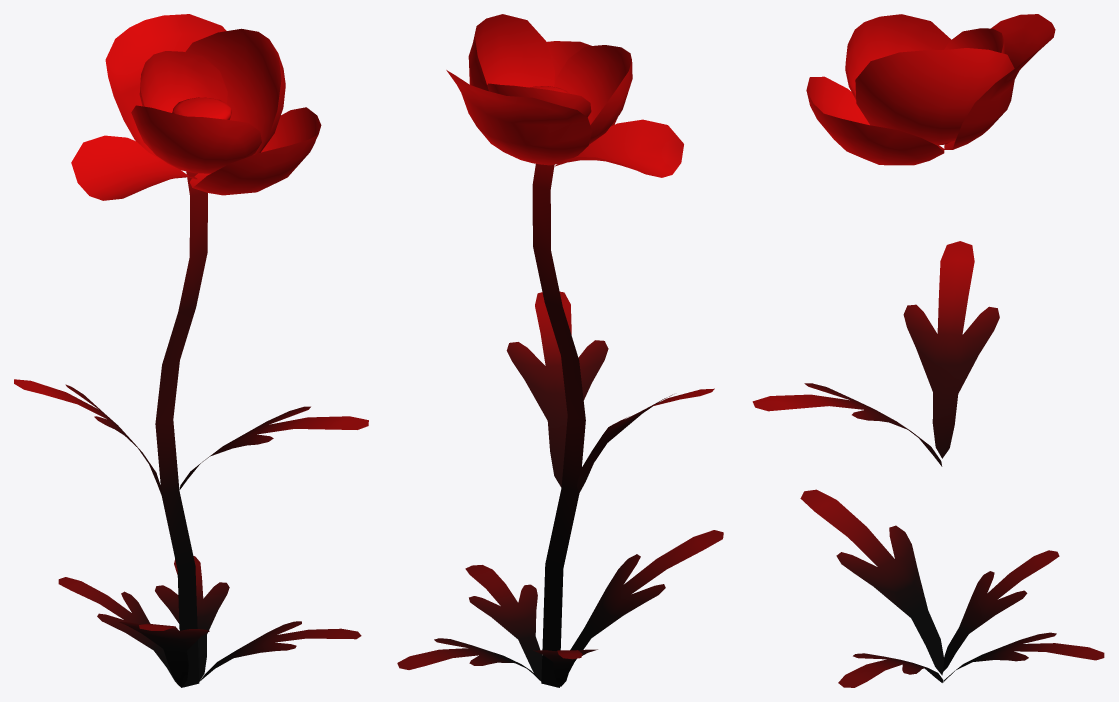
The model's file is SM_Poppy_01_LOD0.fbx.
The picture shows the model from 3 angles, left to right: view 1: azimuth 30°, elevation 25°; view 2: azimuth 150°, elevation 25°; view 3: azimuth 270°, elevation 25°; orthographic projection. The views are drawn at different scales.
Parts seen in each view (by area): view 1: SM_Poppy_01_LOD0; view 2: SM_Poppy_01_LOD0; view 3: SM_Poppy_01_LOD0.
Part boxes in pixels (x1,y1,x2,y2): SM_Poppy_01_LOD0: [14, 14, 368, 687]; SM_Poppy_01_LOD0: [397, 14, 723, 687]; SM_Poppy_01_LOD0: [752, 14, 1104, 687].
Size of the model in its own units: 66.18 by 65.46 by 137.
